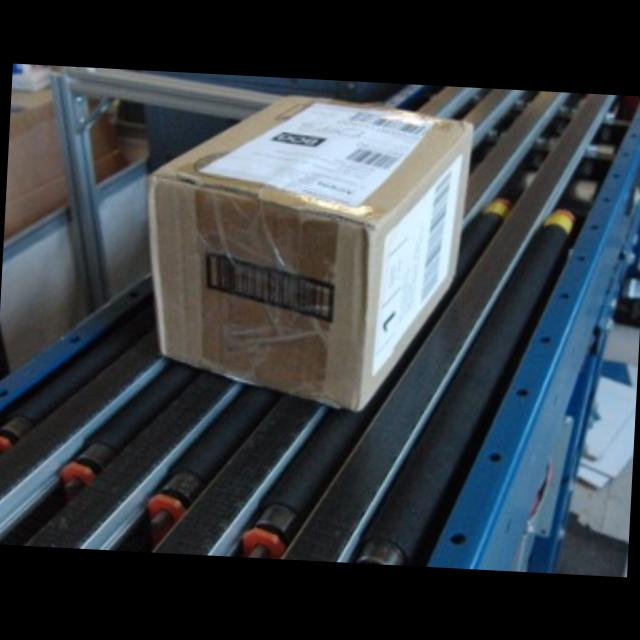box: (141, 84, 472, 416)
